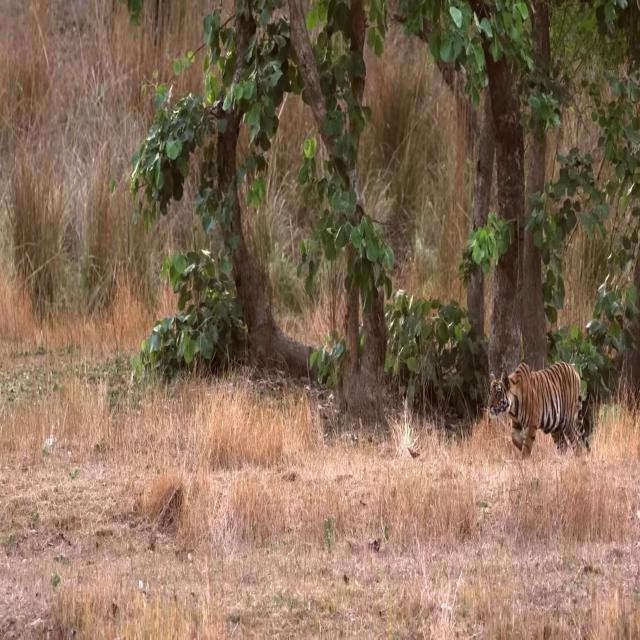tiger: (487, 362, 591, 458)
